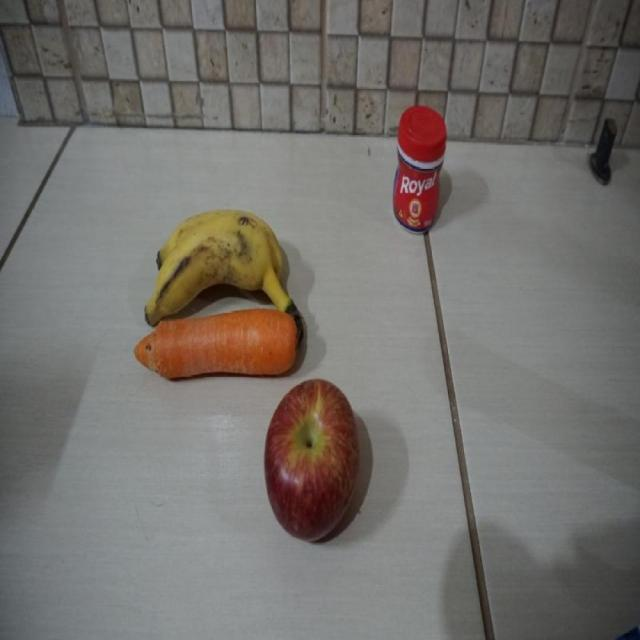Apple: (258, 378, 361, 542)
Banana: (142, 206, 313, 308)
Carrot: (132, 308, 298, 382)
Yeast: (388, 106, 448, 235)
